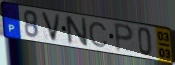0: (137, 26, 154, 58)
8: (23, 9, 40, 40)
C: (87, 21, 110, 48)
N: (64, 15, 90, 48)
P: (113, 21, 136, 54)
V: (40, 10, 62, 43)
